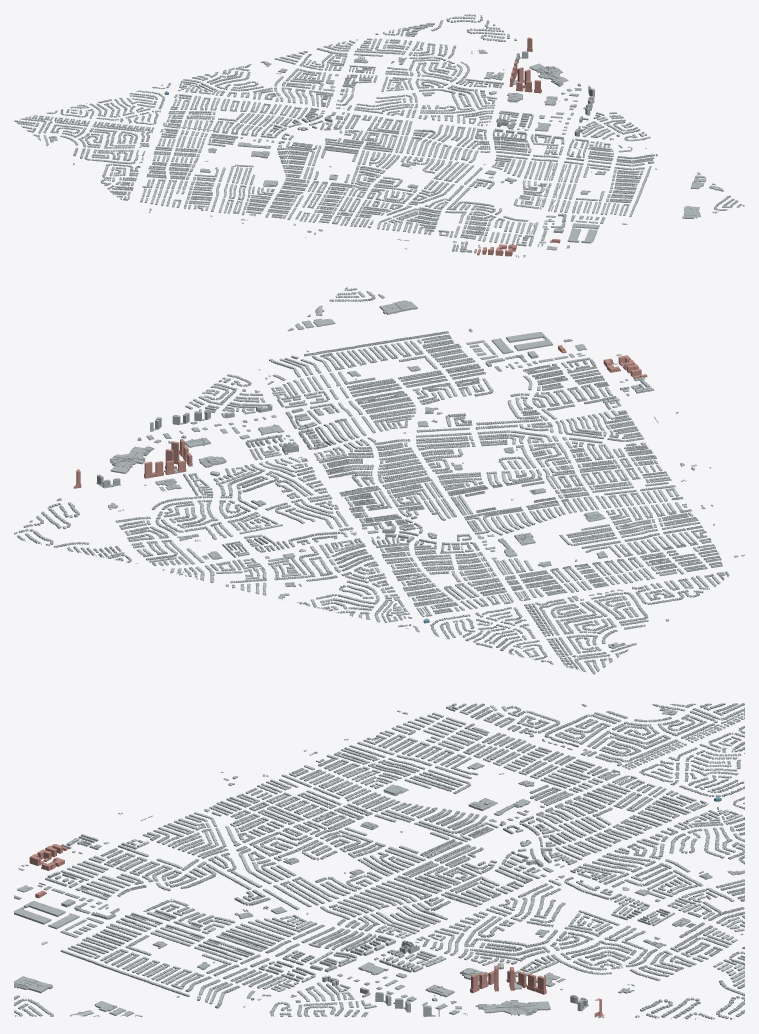
Rendered from churchill-meadows.glb.
3 views of the same model, one above another, from view 1: azimuth 30°, elevation 25°; view 2: azimuth 150°, elevation 25°; view 3: azimuth 270°, elevation 25° (orthographic). The views are drawn at different scales.
Parts seen in each view (by area): view 1: existing-12, existing-51, existing-13, existing-52; view 2: existing-12, existing-51, existing-13, existing-52; view 3: existing-12, existing-51, existing-13, existing-52.
Part boxes in pixels (bbox=[...]): existing-12: bbox=[140, 14, 581, 257]; existing-51: bbox=[537, 138, 744, 250]; existing-13: bbox=[14, 82, 171, 200]; existing-52: bbox=[574, 85, 650, 141]; existing-12: bbox=[14, 354, 744, 622]; existing-51: bbox=[258, 286, 586, 408]; existing-13: bbox=[398, 571, 729, 674]; existing-52: bbox=[150, 374, 272, 431]; existing-12: bbox=[18, 710, 744, 1019]; existing-51: bbox=[14, 882, 315, 1016]; existing-13: bbox=[446, 703, 744, 809]; existing-52: bbox=[269, 975, 439, 1017].
Bounding box in the file's own units: 4000 × 155 × 4000.
